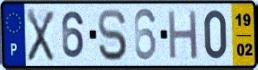0: (203, 8, 228, 61)
6: (133, 7, 158, 63), (60, 9, 87, 60)
H: (167, 8, 200, 61)
S: (97, 7, 129, 63)
X: (25, 7, 56, 63)
